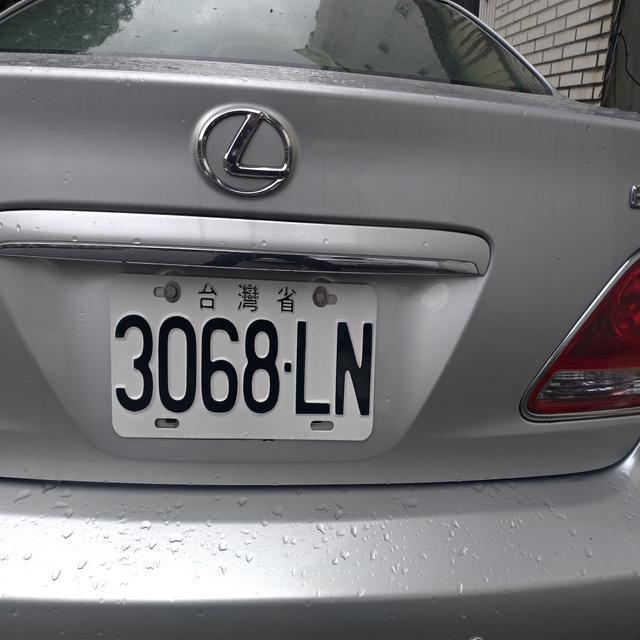license: (108, 296, 375, 424)
